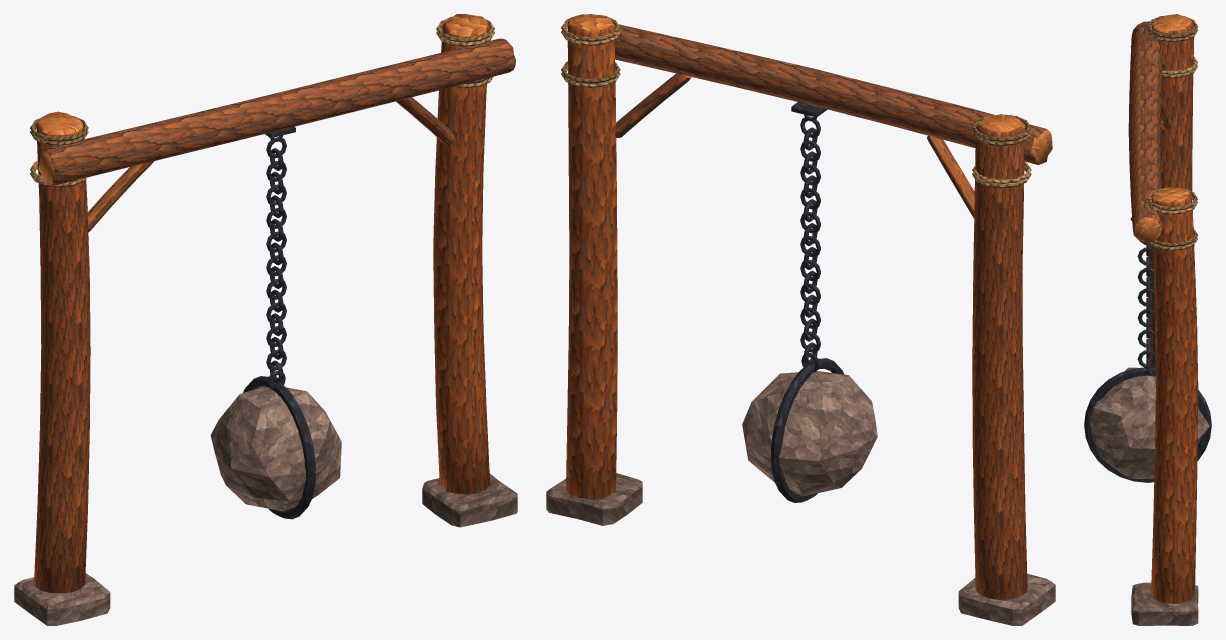
The model's file is trap_swing_boulder.glb.
3 views of the same model, side by side, from view 1: azimuth 30°, elevation 25°; view 2: azimuth 150°, elevation 25°; view 3: azimuth 270°, elevation 25° (orthographic). The views are drawn at different scales.
Visible parts, largest first — view 1: frame, swing; view 2: frame, swing; view 3: frame, swing.
Boxes of the visible parts, <box> form: frame: <box>14,14,517,625</box>; swing: <box>210,137,341,519</box>; frame: <box>546,14,1055,625</box>; swing: <box>742,116,877,502</box>; frame: <box>1128,14,1198,625</box>; swing: <box>1084,241,1211,482</box>.
Bounding box in the file's own units: 4.04 × 3.95 × 1.09.
19 materials, 19 textured.
